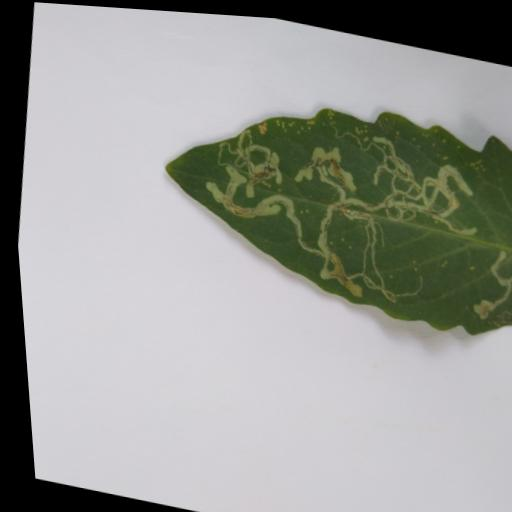Leaf_Miner: (138, 62, 512, 345)
